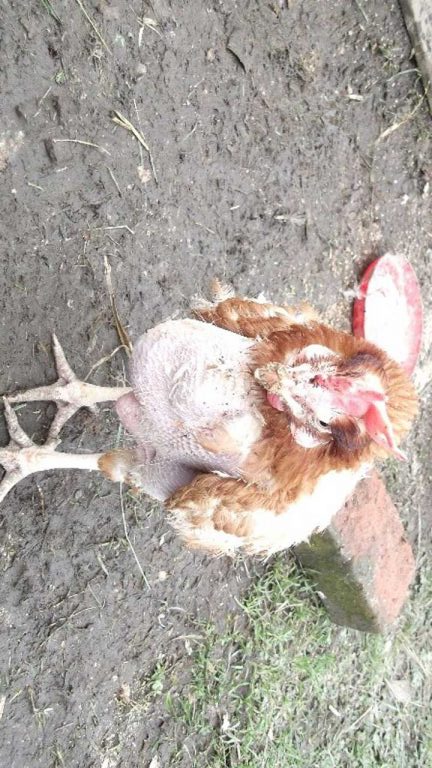Unhealthy: (10, 262, 423, 579)
